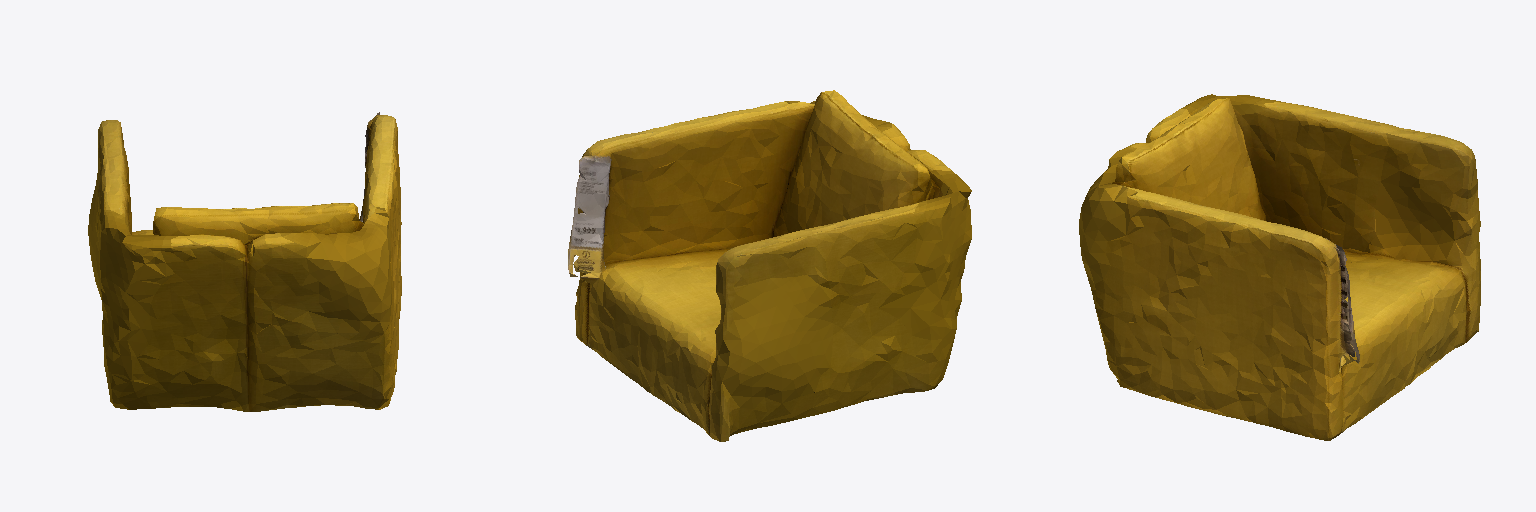
The picture shows the model from 3 angles: view 1: azimuth 30°, elevation 25°; view 2: azimuth 150°, elevation 25°; view 3: azimuth 270°, elevation 25°; orthographic projection.
Visible parts, largest first — view 1: mmGroup0; view 2: mmGroup0; view 3: mmGroup0.
Part boxes in pixels (x1,y1,x2,y2): mmGroup0: (88, 112, 401, 411); mmGroup0: (568, 90, 971, 441); mmGroup0: (1079, 94, 1480, 440).
Bounding box in the file's own units: 4.77 × 2.84 × 4.96.
2 materials, 2 textured.